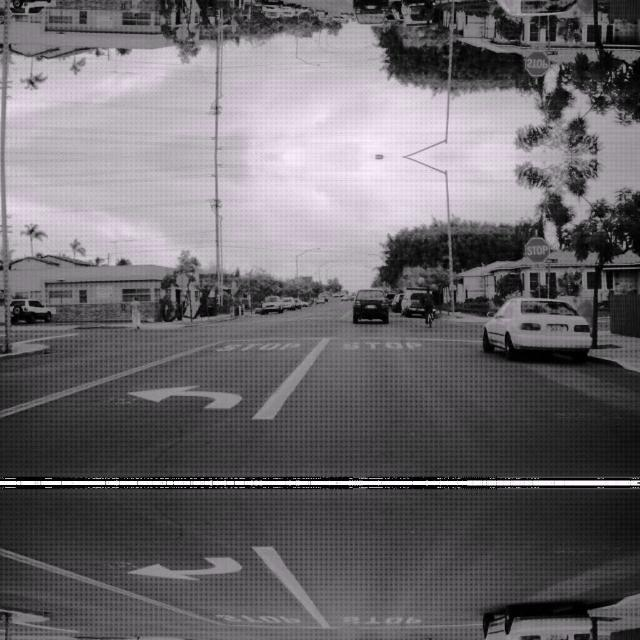stop: (524, 235, 550, 261), (524, 51, 550, 77)
